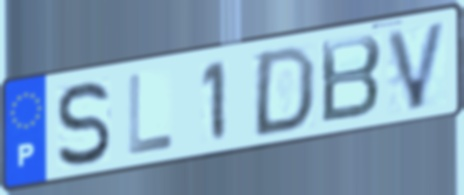1: (198, 58, 230, 142)
B: (317, 31, 384, 127)
D: (249, 43, 319, 140)
L: (126, 70, 176, 160)
S: (55, 78, 113, 170)
V: (384, 17, 451, 114)
